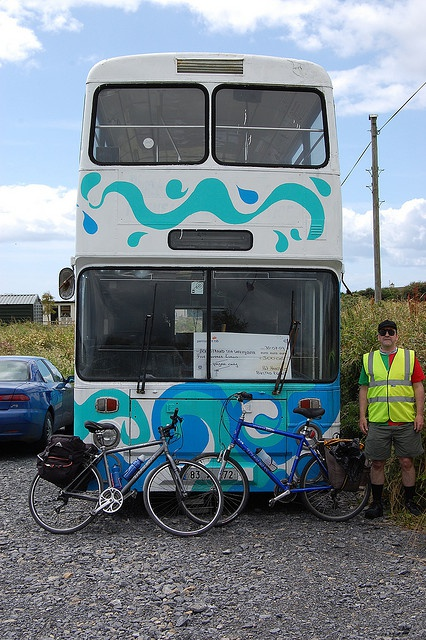non-vehicle: (194, 391, 372, 525), (30, 413, 222, 535)
